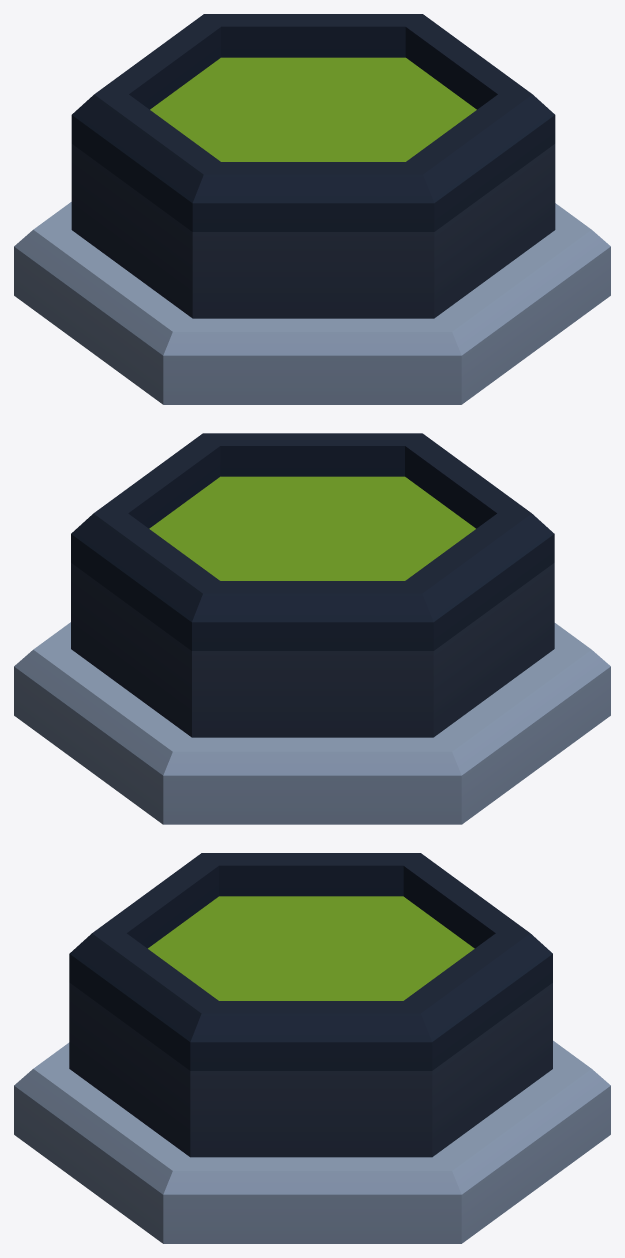
The model's file is Tub 01.FBX.
3 views of the same model, one above another, from view 1: azimuth 30°, elevation 25°; view 2: azimuth 150°, elevation 25°; view 3: azimuth 270°, elevation 25° (orthographic).
Visible parts, largest first — view 1: Tub 01, Tub 01 Liquid; view 2: Tub 01, Tub 01 Liquid; view 3: Tub 01, Tub 01 Liquid.
Part boxes in pixels (bbox=[...]): Tub 01: bbox=[14, 14, 610, 404]; Tub 01 Liquid: bbox=[150, 57, 476, 161]; Tub 01: bbox=[14, 433, 610, 824]; Tub 01 Liquid: bbox=[149, 476, 475, 580]; Tub 01: bbox=[14, 853, 610, 1243]; Tub 01 Liquid: bbox=[148, 896, 474, 1000].
Bounding box in the file's own units: 280 × 120 × 323.
Materials: 1 (1 with a texture image).
